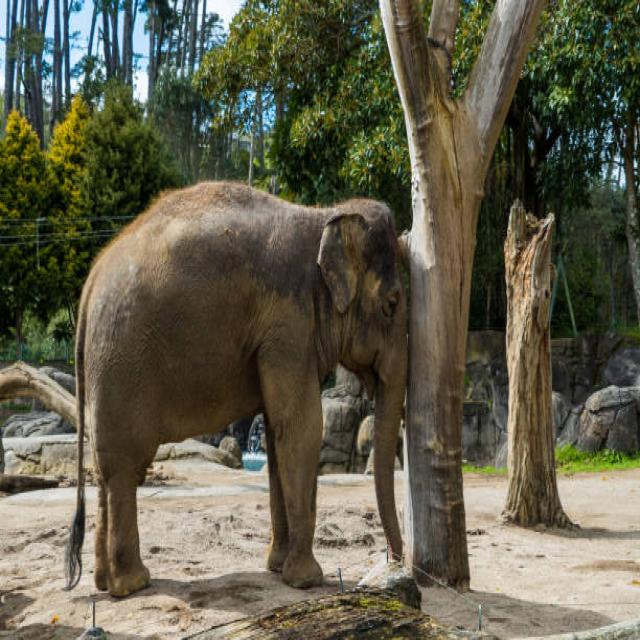Elephant: (66, 175, 417, 610)
